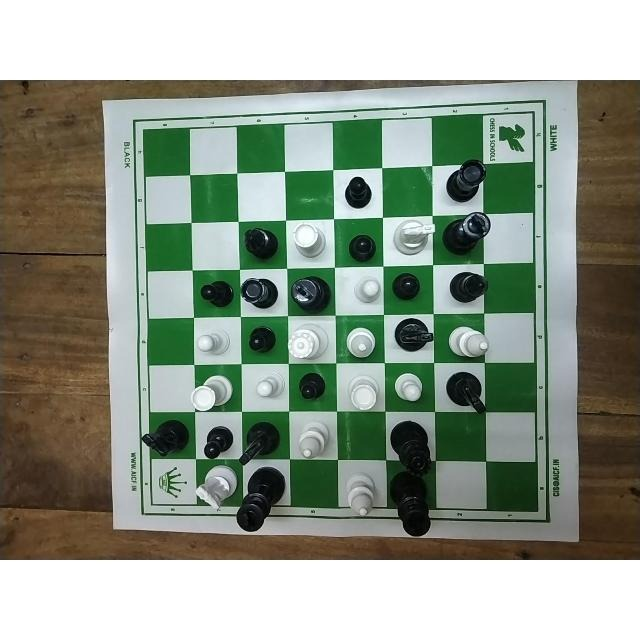black-knight: (233, 421, 283, 469), (442, 368, 489, 416), (137, 417, 190, 456), (396, 316, 437, 358)
black-rook: (443, 159, 491, 201), (241, 278, 282, 314)
white-bishop: (346, 473, 385, 521), (446, 323, 492, 359), (296, 423, 333, 460), (347, 323, 379, 359)
white-knight: (196, 466, 237, 511), (391, 218, 436, 255)
white-pawn: (194, 325, 230, 364), (393, 370, 426, 403), (251, 370, 284, 403), (351, 274, 380, 307)
white-queen: (288, 326, 328, 366)
white-rook: (190, 372, 234, 413), (343, 372, 381, 412), (294, 221, 326, 261)
